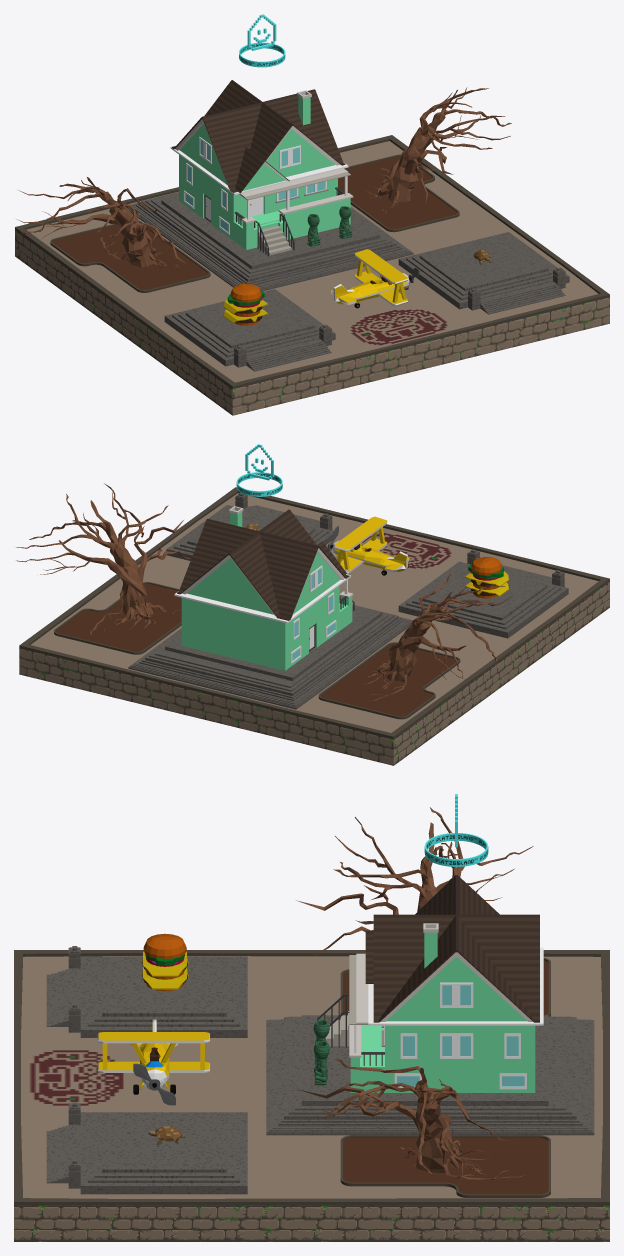
3 renders of one model, top to bottom at view 1: azimuth 30°, elevation 25°; view 2: azimuth 150°, elevation 25°; view 3: azimuth 270°, elevation 25°, orthographic. The views are drawn at different scales.
Visible parts, largest first — view 1: Cube.011, Cube.352, VEHICLES_AIRPLANE, OBJRANDOM_HAMBURGER, TYPE_PREMIUM; view 2: Cube.011, Cube.352, VEHICLES_AIRPLANE, OBJRANDOM_HAMBURGER, TYPE_PREMIUM; view 3: Cube.011, Cube.352, VEHICLES_AIRPLANE, OBJRANDOM_HAMBURGER, TYPE_PREMIUM.
Boxes of the visible parts, box(x1,y1,x2,y2) form: Cube.011: box(15, 87, 609, 415); Cube.352: box(170, 80, 353, 256); VEHICLES_AIRPLANE: box(331, 249, 419, 308); OBJRANDOM_HAMBURGER: box(224, 283, 268, 325); TYPE_PREMIUM: box(239, 14, 285, 67); Cube.011: box(16, 483, 609, 765); Cube.352: box(174, 506, 354, 670); VEHICLES_AIRPLANE: box(327, 516, 410, 575); OBJRANDOM_HAMBURGER: box(464, 557, 508, 598); TYPE_PREMIUM: box(236, 444, 282, 496); Cube.011: box(14, 807, 609, 1241); Cube.352: box(317, 875, 543, 1092); VEHICLES_AIRPLANE: box(97, 1019, 209, 1105); OBJRANDOM_HAMBURGER: box(141, 933, 188, 991); TYPE_PREMIUM: box(424, 794, 488, 866).
Size of the model in its own units: 5099 by 2466 by 4000.
Materials: 45 (6 with a texture image).
